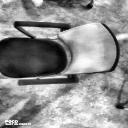chair_fail: (1, 22, 120, 85)
